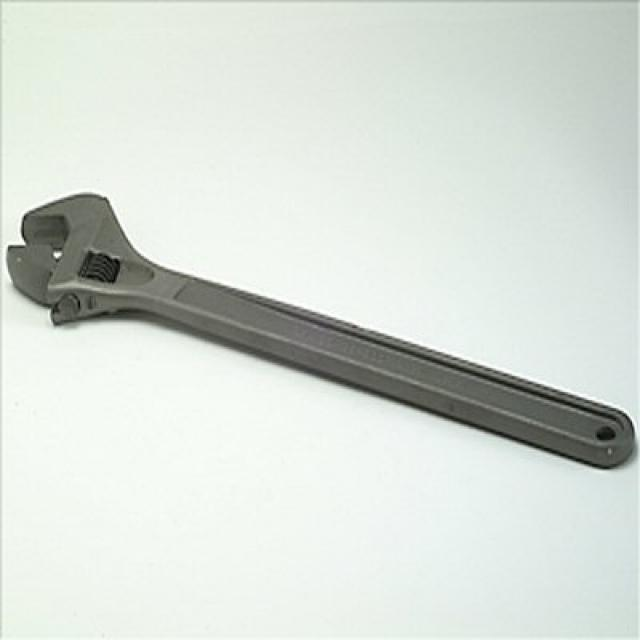wrench: (1, 177, 635, 478)
